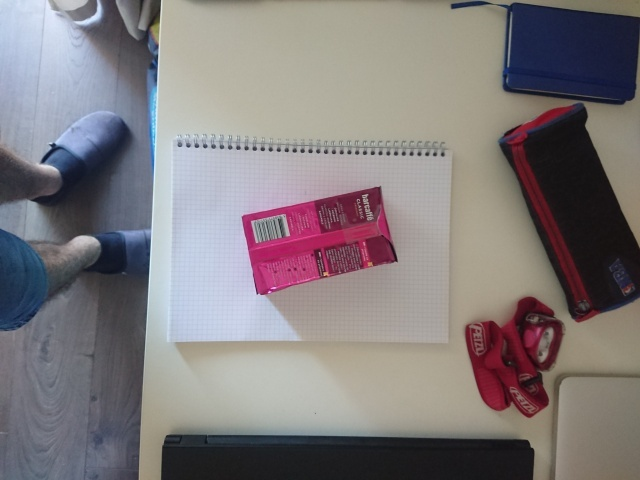Barcaffe Classic Original 225g: (239, 184, 400, 297)
